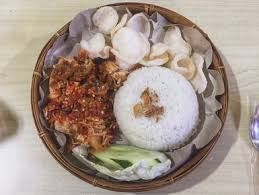ayam_geprek: (38, 49, 125, 150)
